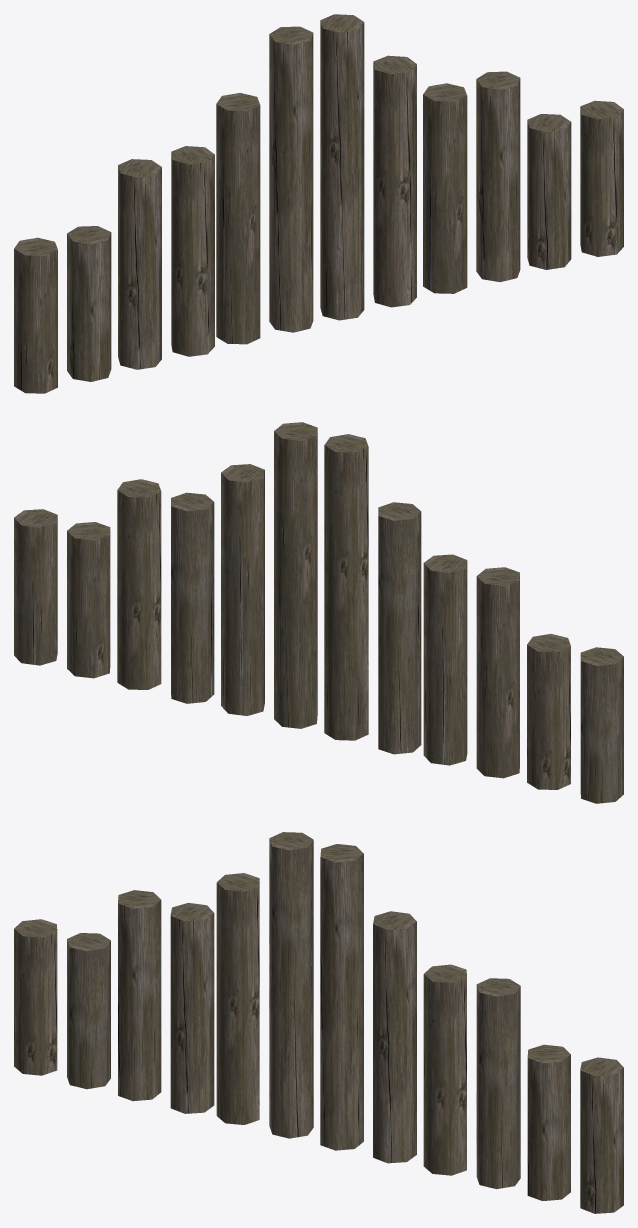
File: defaultfence.glb
The picture shows the model from 3 angles, top to bottom: view 1: azimuth 30°, elevation 25°; view 2: azimuth 150°, elevation 25°; view 3: azimuth 330°, elevation 25°; orthographic projection.
Visible parts, largest first — view 1: DefaultFence; view 2: DefaultFence; view 3: DefaultFence.
Part boxes in pixels (<box>): DefaultFence: <box>14,14,623,393</box>; DefaultFence: <box>14,422,623,803</box>; DefaultFence: <box>14,832,623,1213</box>.
Size of the model in its own units: 2.25 by 1.03 by 0.1458.
1 material, 1 textured.
